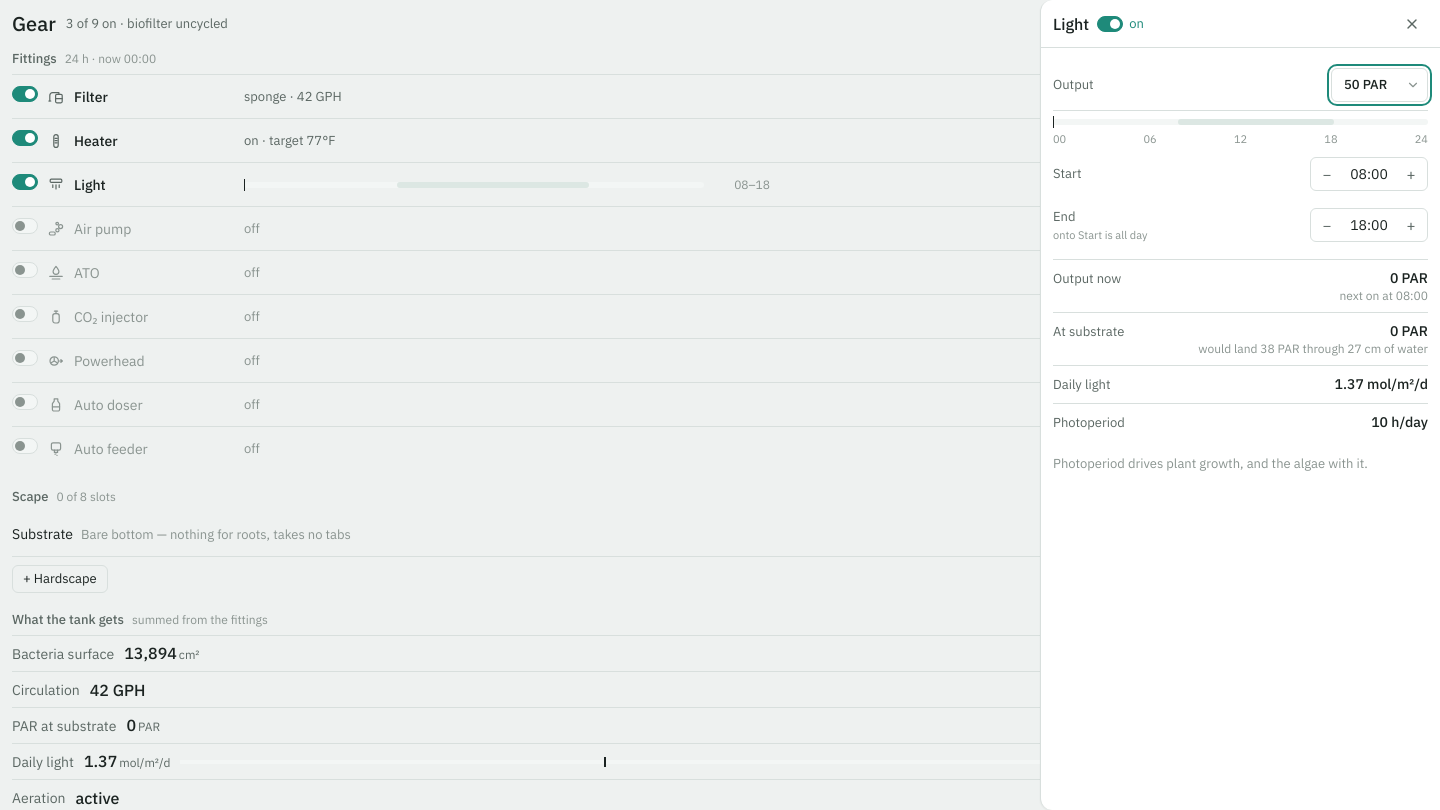
GearSection › opens the inspector the address names, and closes it back to the rack
The image size is (1440, 810).
Check: the dropdown named "Light output" is shown, box [1331, 68, 1428, 102]
What coordinates should you click on to do the following:
click the button named "Close Light"
I would click on:
 (1412, 24)
Its box is [1396, 8, 1428, 40].
(page scrolled)
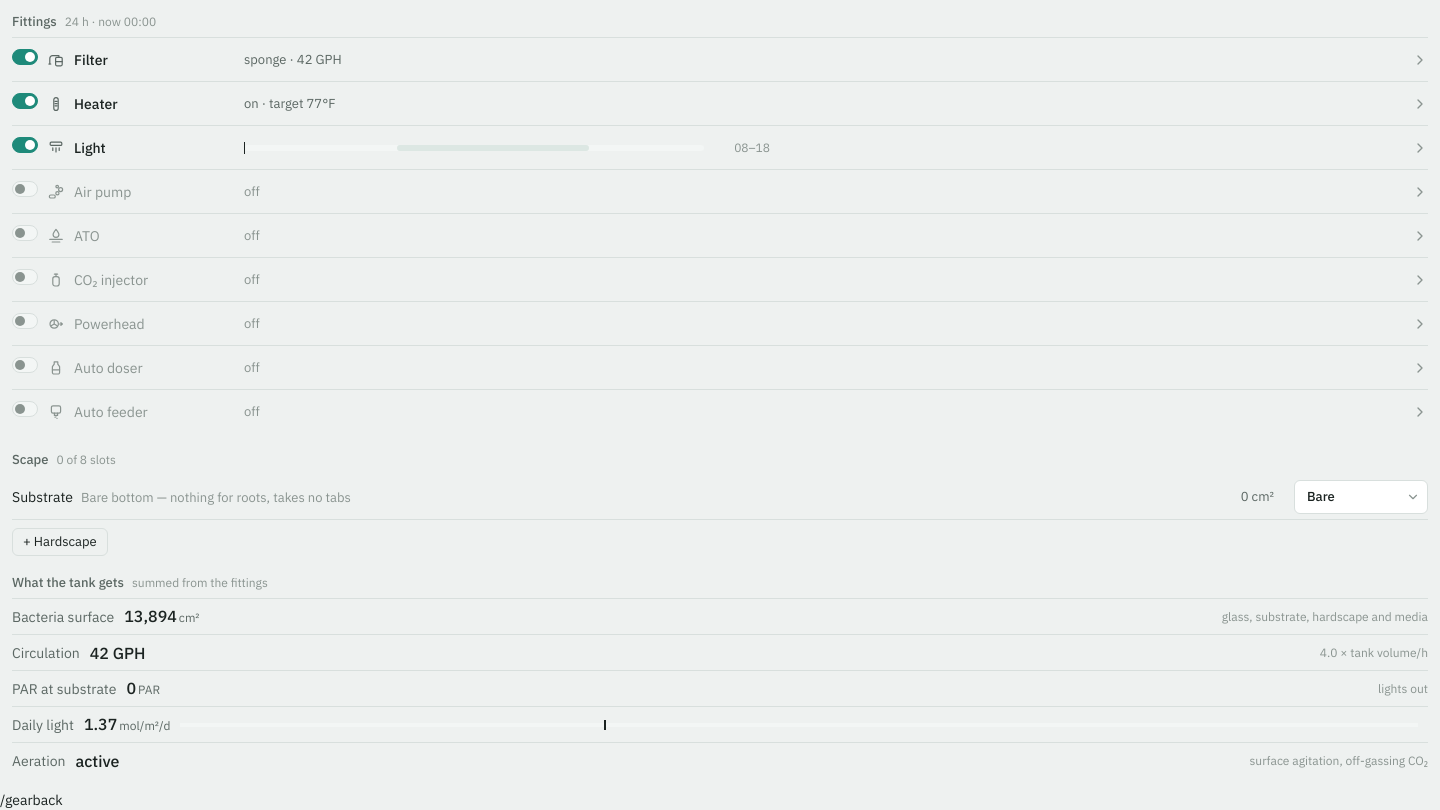
Check: the dialog is gone
Check: the text with test id "address" reads "/gear", box [0, 791, 33, 809]
